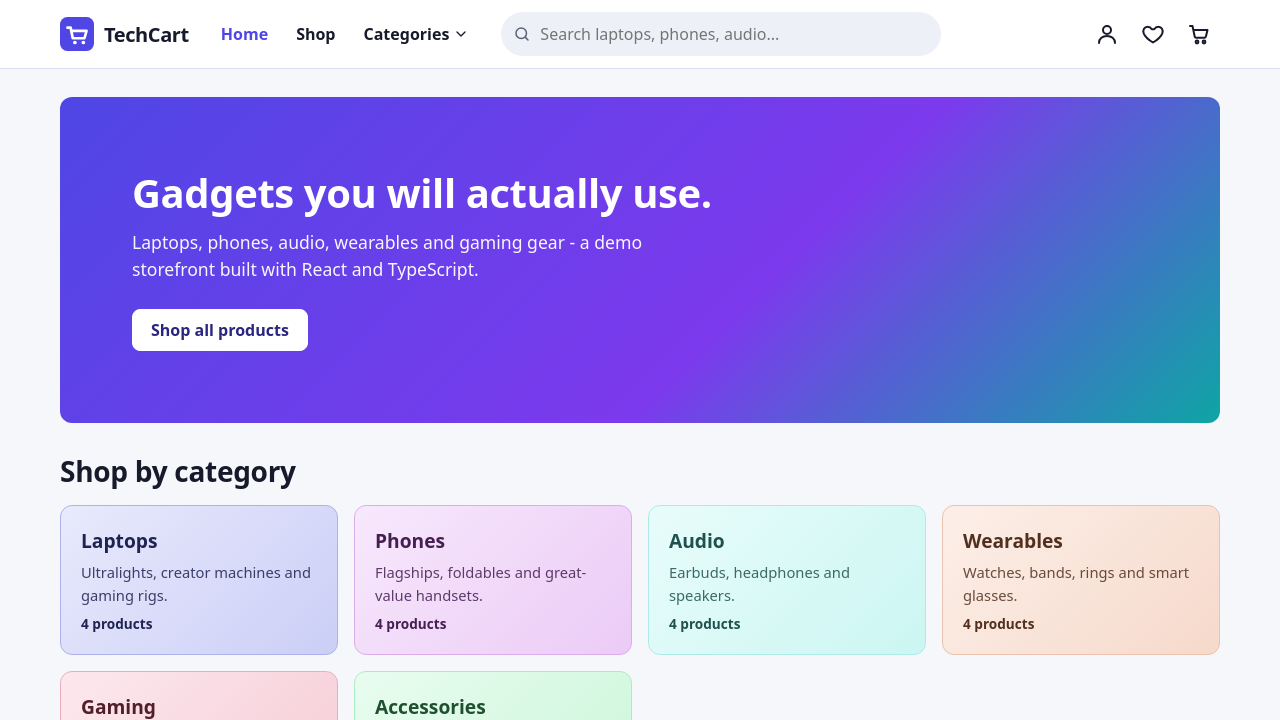
SearchBar › tells you when nothing matches
The image size is (1280, 720).
In the dropdown named "Search products": (721,34) [501,12,941,56], type "zzzzqqq"
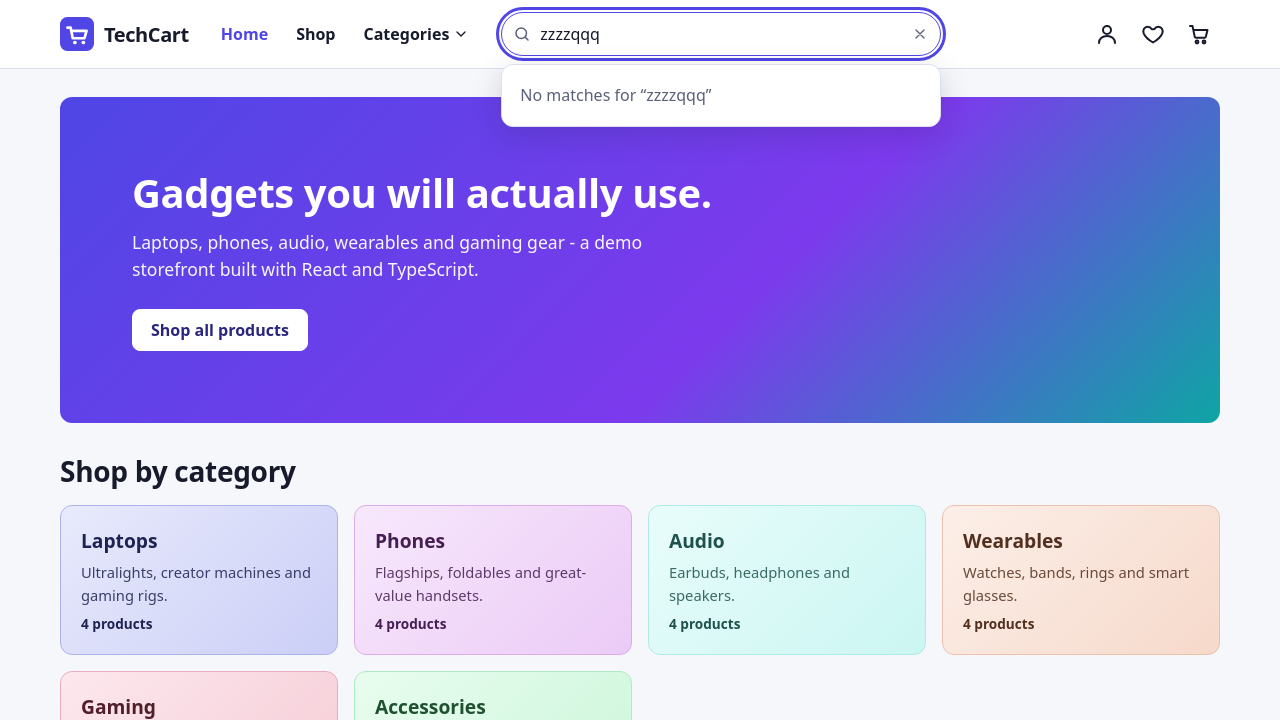
Expected: the list item "No matches for “zzzzqqq”" is shown, [520,84,712,106]
